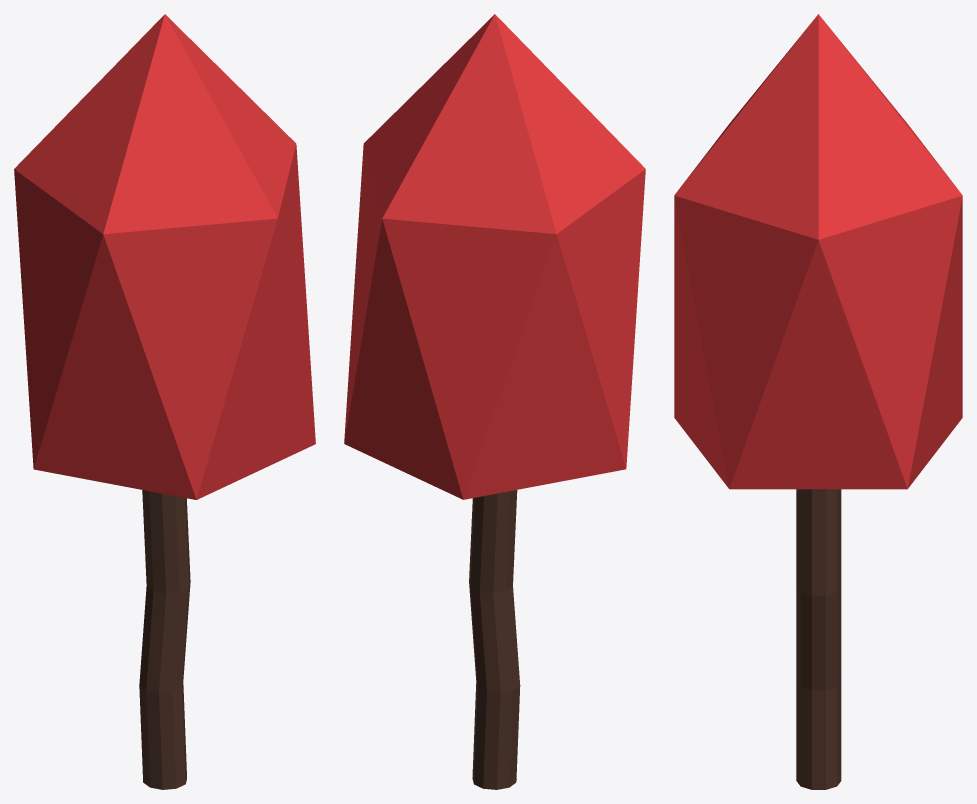
The model's file is Pink Tree.fbx.
The picture shows the model from 3 angles, left to right: view 1: azimuth 30°, elevation 25°; view 2: azimuth 150°, elevation 25°; view 3: azimuth 270°, elevation 25°; orthographic projection.
Parts seen in each view (by area): view 1: Pink Tree; view 2: Pink Tree; view 3: Pink Tree.
Boxes of the visible parts, x1,y1,x2,y2 form: Pink Tree: (14,14,315,789); Pink Tree: (344,14,645,789); Pink Tree: (674,14,962,789).
Bounding box in the file's own units: 179 × 499 × 170.
